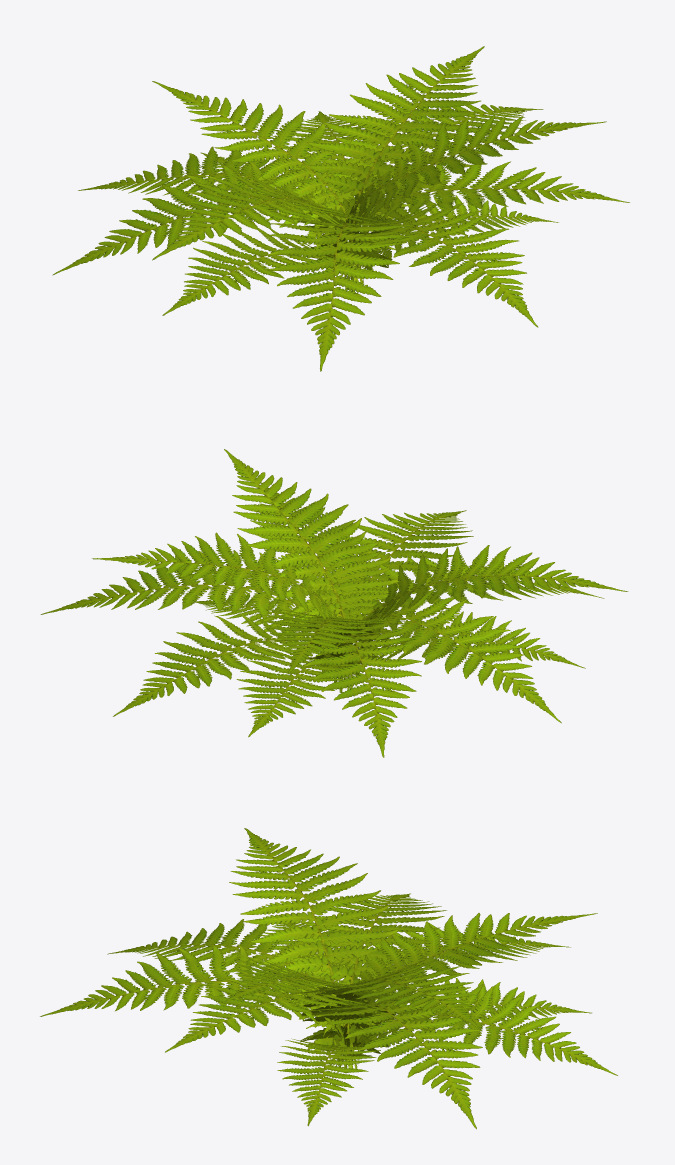
The model's file is fern01.glb.
3 renders of one model, top to bottom at view 1: azimuth 30°, elevation 25°; view 2: azimuth 150°, elevation 25°; view 3: azimuth 270°, elevation 25°, orthographic. The views are drawn at different scales.
Parts seen in each view (by area): view 1: Woodland_Sword_Fern_Modular_0; view 2: Woodland_Sword_Fern_Modular_0; view 3: Woodland_Sword_Fern_Modular_0.
Part boxes in pixels (box(x1,y1,x2,y2)): Woodland_Sword_Fern_Modular_0: box(52, 46, 629, 371); Woodland_Sword_Fern_Modular_0: box(40, 449, 628, 757); Woodland_Sword_Fern_Modular_0: box(40, 828, 617, 1129).
Bounding box in the file's own units: 0.9986 × 0.2827 × 0.9704.
1 material, 1 textured.
